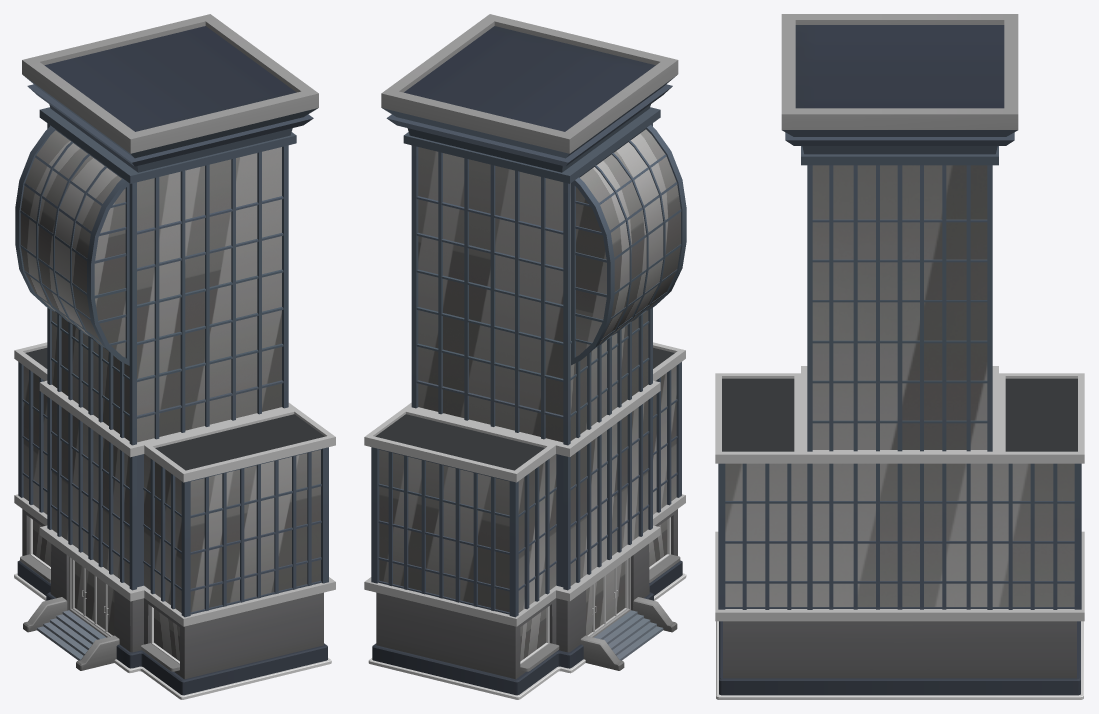
File: Building_15_G.fbx
3 views of the same model, side by side, from view 1: azimuth 30°, elevation 25°; view 2: azimuth 150°, elevation 25°; view 3: azimuth 270°, elevation 25° (orthographic). The views are drawn at different scales.
Visible parts, largest first — view 1: Building_15_G; view 2: Building_15_G; view 3: Building_15_G.
Boxes of the visible parts, x1,y1,x2,y2 form: Building_15_G: [14, 14, 335, 699]; Building_15_G: [364, 14, 686, 699]; Building_15_G: [715, 14, 1084, 699].
Bounding box in the file's own units: 860 × 2100 × 1183.
